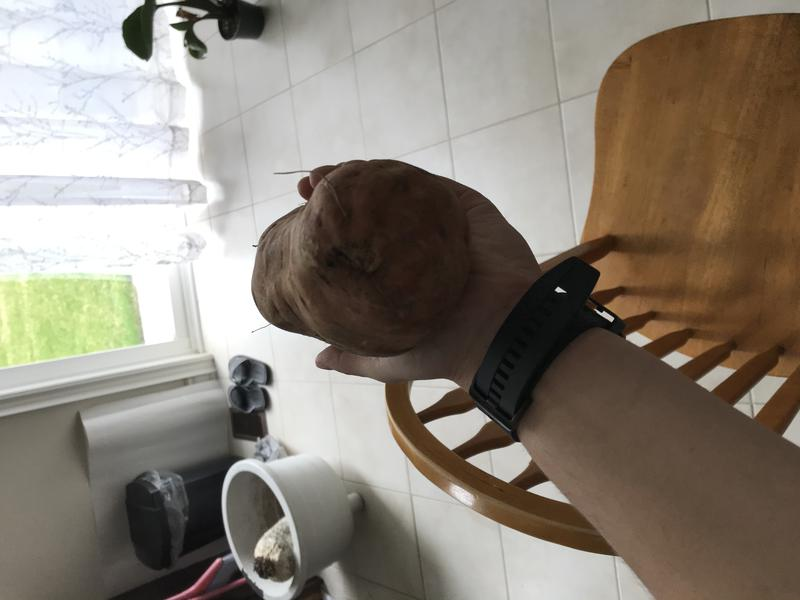sweet_potato: (241, 149, 484, 365)
